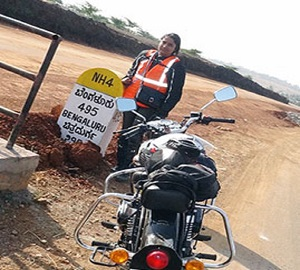Bike: (118, 114, 229, 270)
